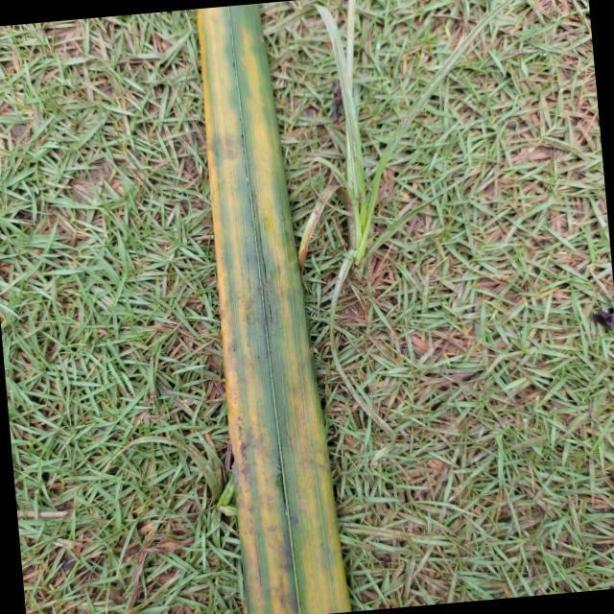Megnesium: (193, 1, 343, 614)
